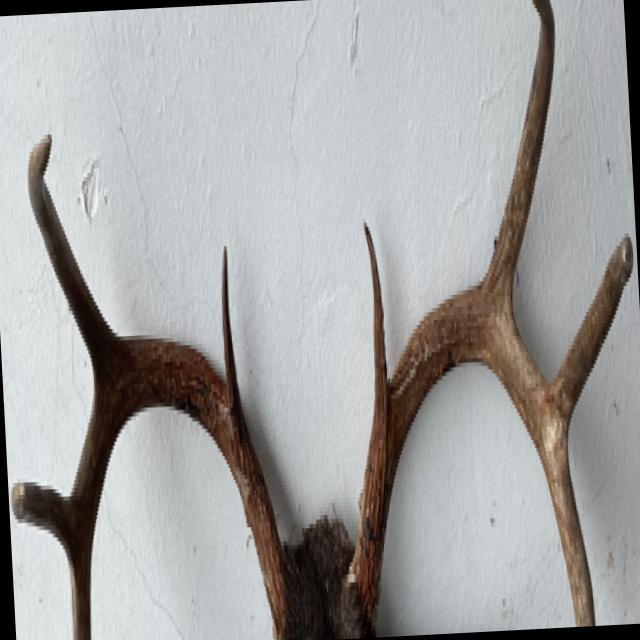L-F: (346, 285, 596, 636)
L-G1: (361, 209, 389, 404)
L-G2: (480, 0, 557, 323)
L-G3: (551, 229, 634, 432)
R-F: (68, 335, 286, 640)
R-G1: (220, 243, 242, 403)
R-G2: (27, 130, 117, 389)
R-G3: (10, 478, 71, 567)
